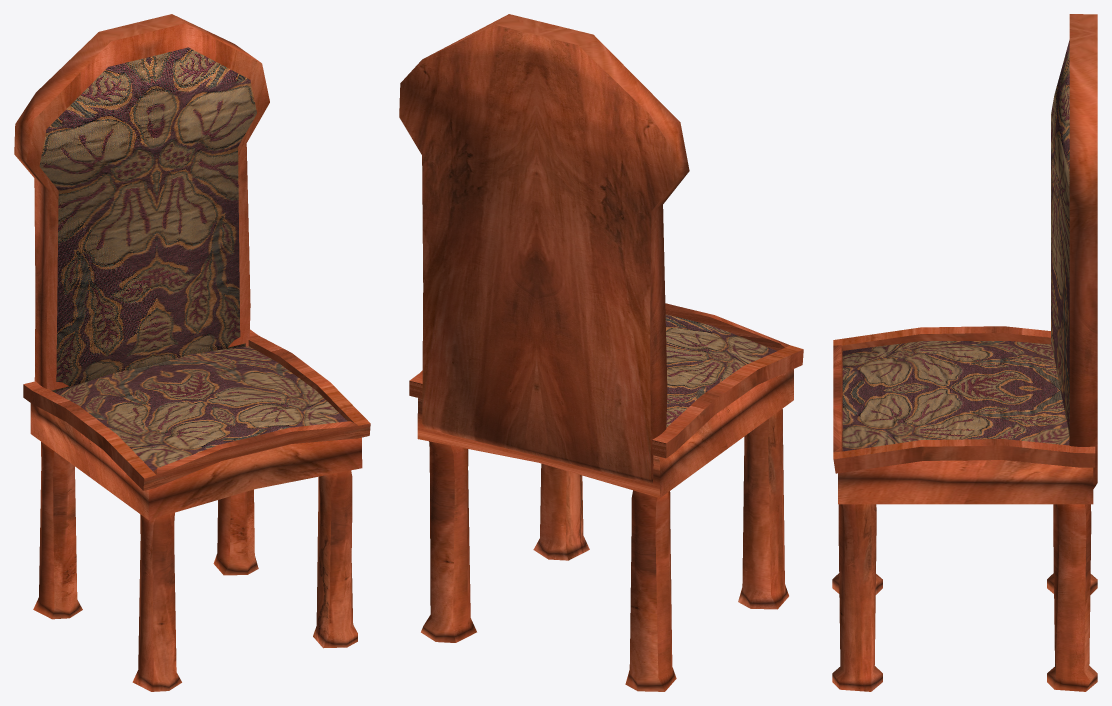
Rendered from chair_mansion_alternative.dae.
3 renders of one model, left to right at view 1: azimuth 30°, elevation 25°; view 2: azimuth 150°, elevation 25°; view 3: azimuth 270°, elevation 25°, orthographic. The views are drawn at different scales.
Visible parts, largest first — view 1: Cube; view 2: Cube; view 3: Cube.
Boxes of the visible parts, x1,y1,x2,y2 form: Cube: (14,14,370,691); Cube: (399,14,803,691); Cube: (832,14,1097,691).
Bounding box in the file's own units: 0.6231 × 0.5437 × 1.36.
